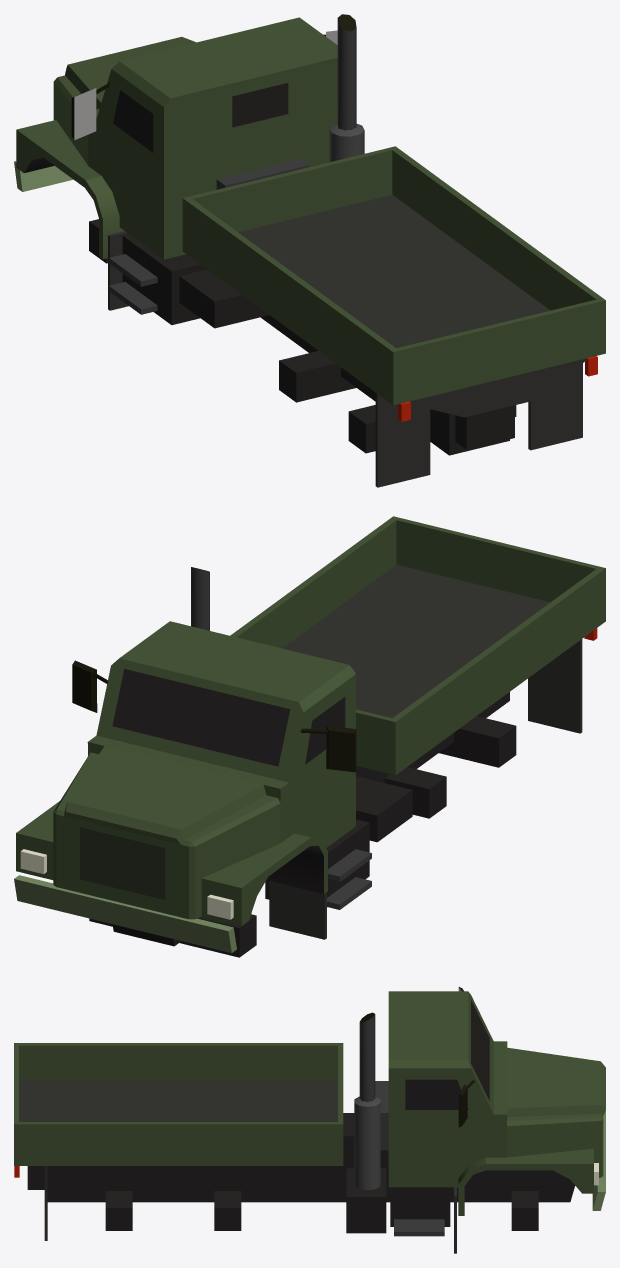
Rendered from military_veh1.fbx.
3 renders of one model, top to bottom at view 1: azimuth 30°, elevation 25°; view 2: azimuth 150°, elevation 25°; view 3: azimuth 270°, elevation 25°, orthographic. The views are drawn at different scales.
Parts seen in each view (by area): view 1: military_veh1; view 2: military_veh1; view 3: military_veh1.
Part boxes in pixels (x1=…): military_veh1: x1=14, y1=14, x2=605, y2=487; military_veh1: x1=14, y1=516, x2=605, y2=957; military_veh1: x1=14, y1=987, x2=605, y2=1253.
Size of the model in its own units: 290 by 284 by 673.
